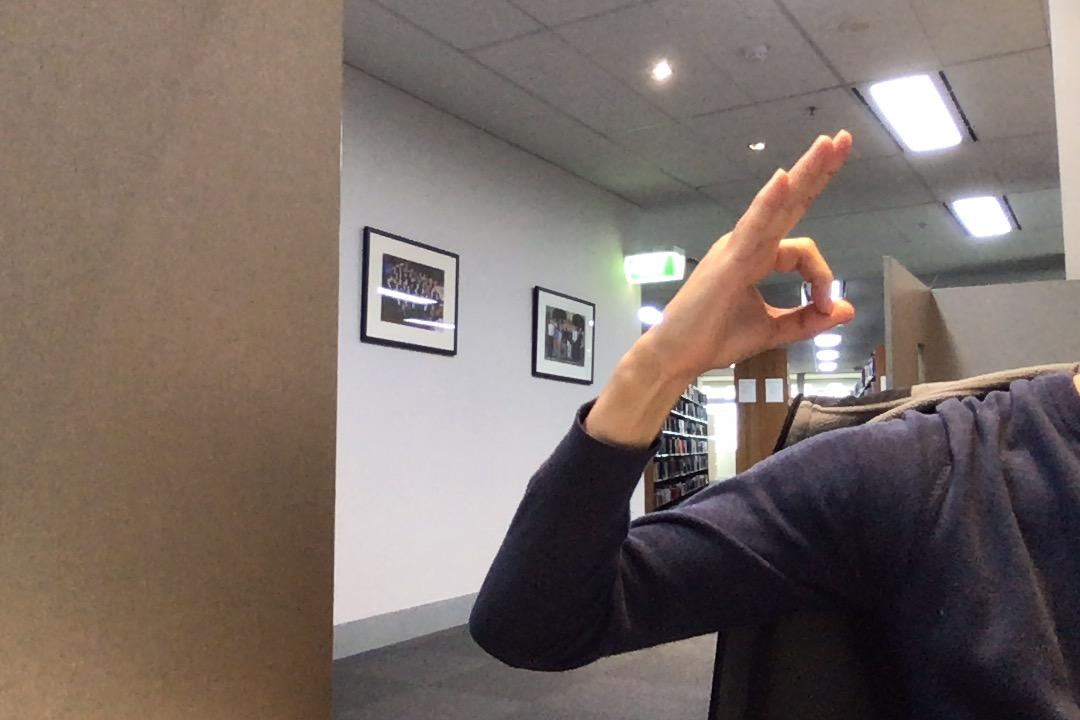oksign: (655, 125, 865, 383)
